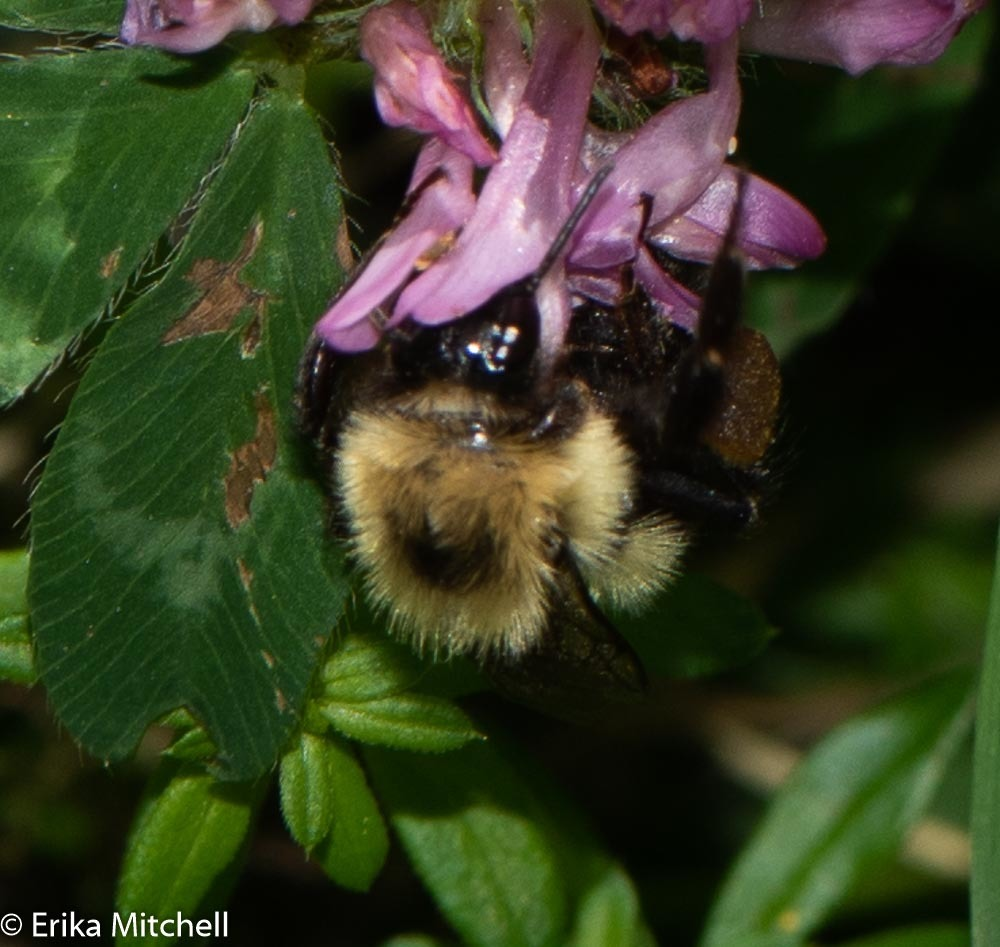bumblebee: (287, 152, 773, 701)
